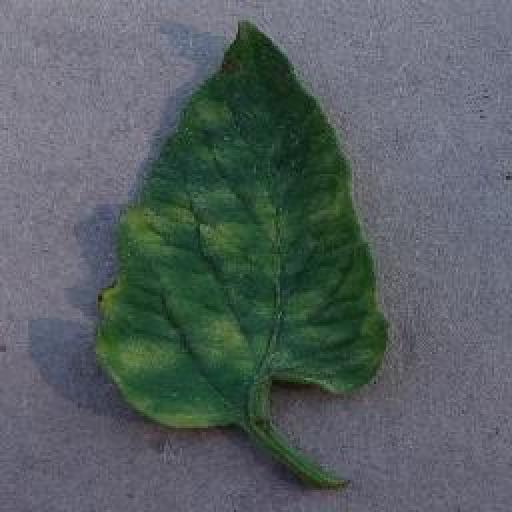Leaf Mold: (91, 22, 391, 430)
